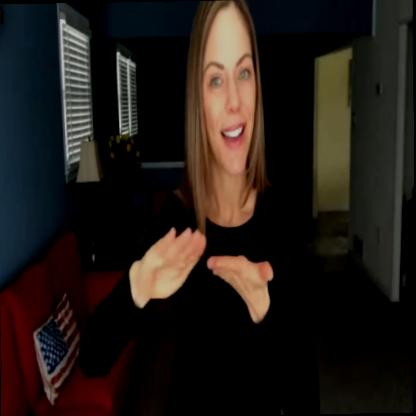NiceToMeetYou: (87, 0, 325, 416)
